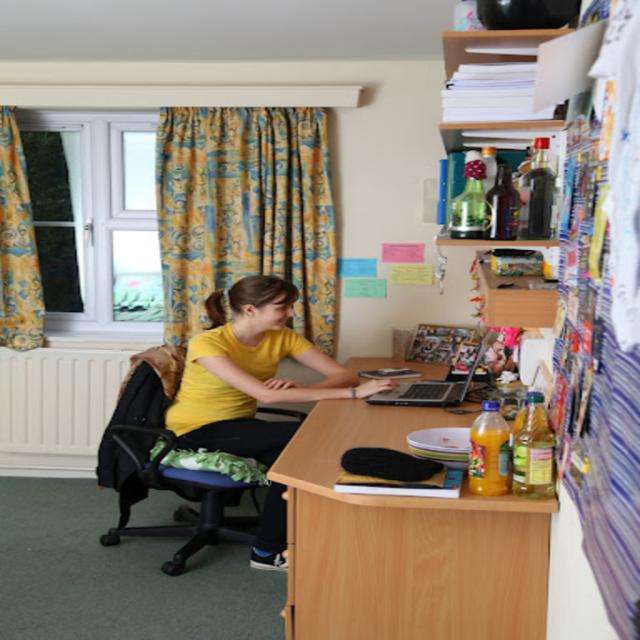chair: (94, 343, 269, 577)
desk: (236, 412, 575, 626)
laptop: (364, 338, 486, 405)
person: (164, 276, 397, 570)
